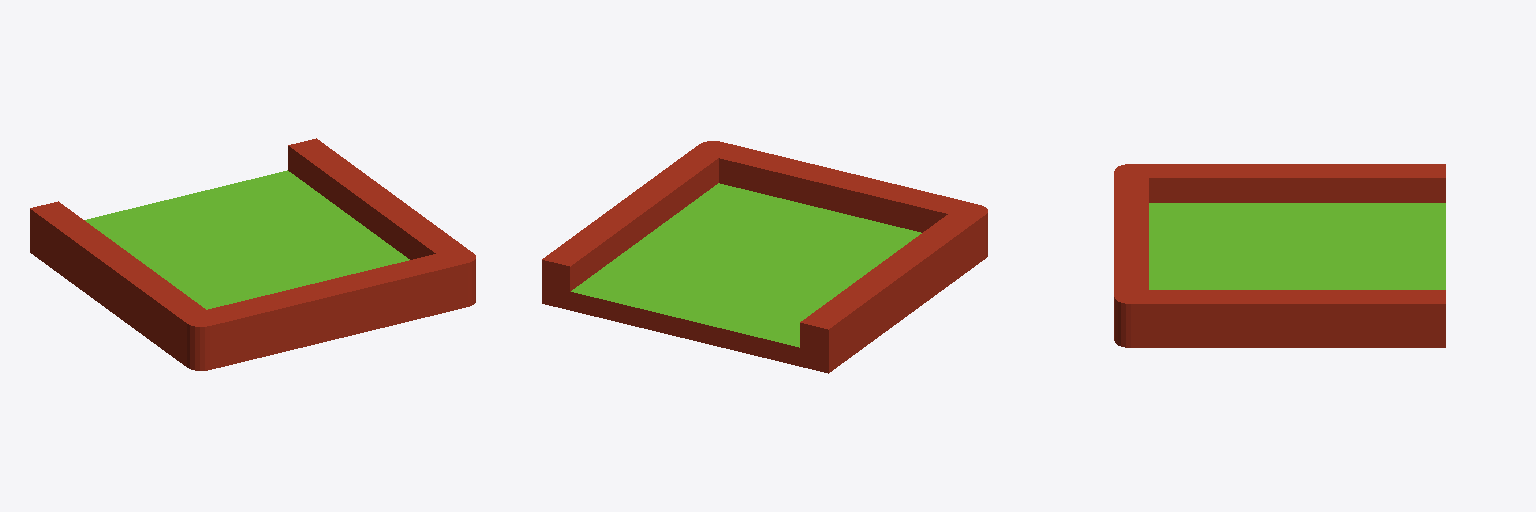
The model's file is UVED_start11.obj.
3 views of the same model, side by side, from view 1: azimuth 30°, elevation 25°; view 2: azimuth 150°, elevation 25°; view 3: azimuth 270°, elevation 25° (orthographic).
Visible parts, largest first — view 1: pCube2; view 2: pCube2; view 3: pCube2.
Part boxes in pixels (x1,y1,x2,y2): pCube2: (30, 138, 475, 370); pCube2: (542, 141, 987, 373); pCube2: (1114, 164, 1445, 347).
Size of the model in its own units: 3 by 0.44 by 3.